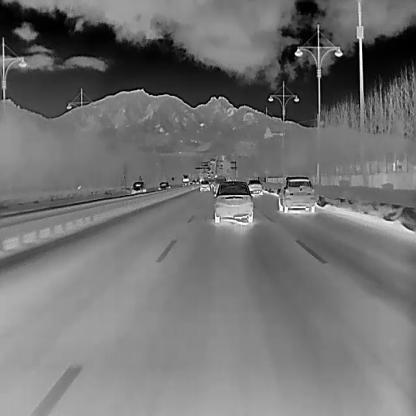car: (212, 180, 253, 223), (275, 175, 315, 212), (246, 178, 262, 195), (213, 176, 226, 194), (130, 181, 146, 194), (182, 171, 193, 185), (199, 178, 210, 191), (157, 180, 171, 190), (211, 171, 214, 175), (207, 171, 210, 174)
